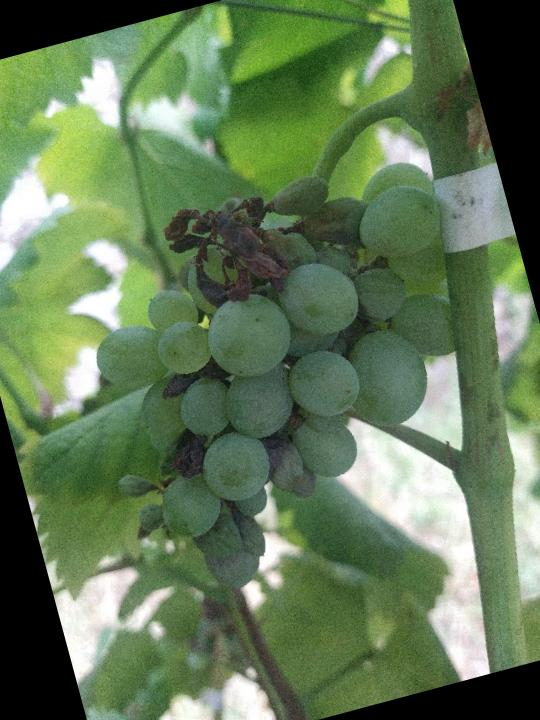grape: (48, 141, 526, 619)
